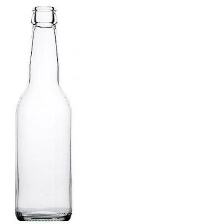bottle: (12, 2, 77, 223)
